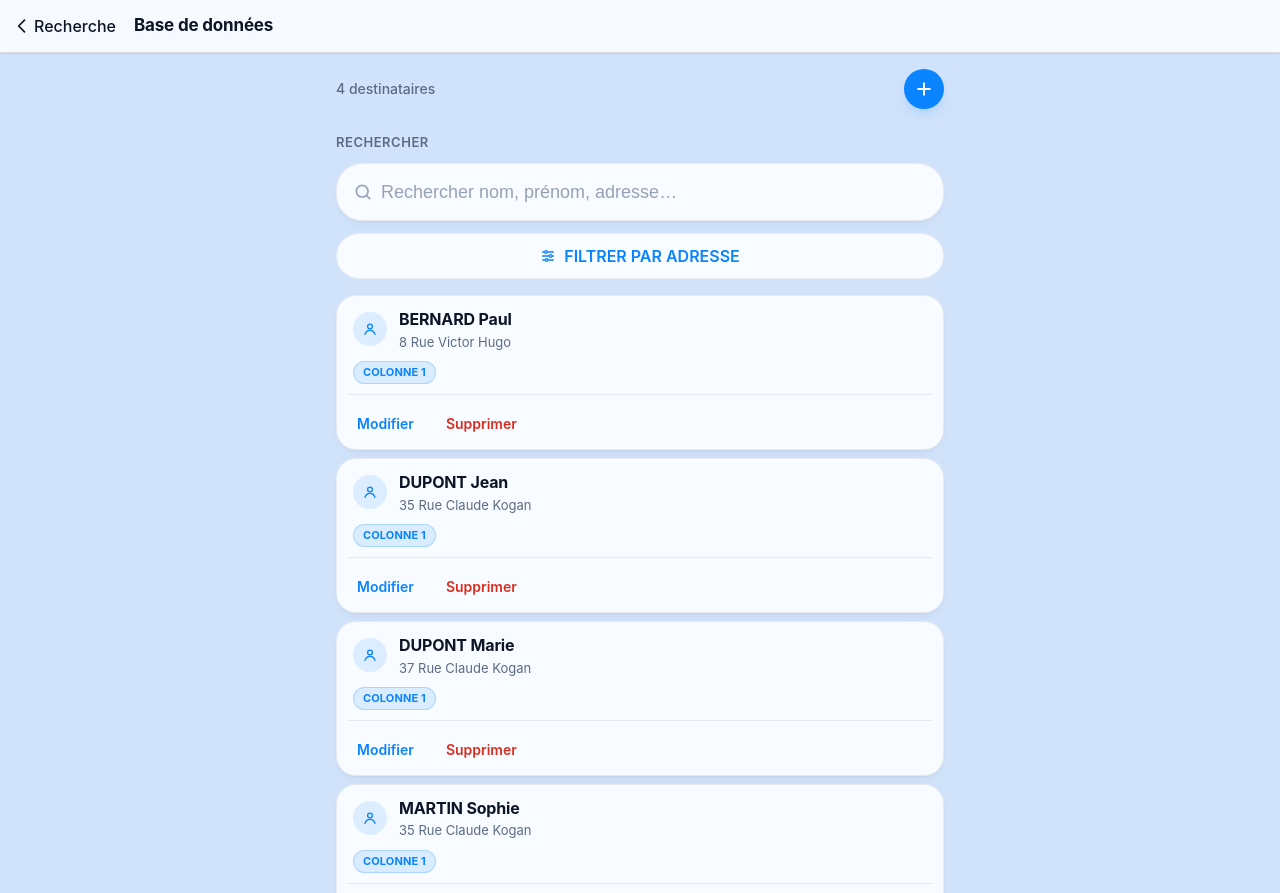
DatabasePage — filtre par adresse complète › 4. sélectionner plusieurs adresses affiche l’union (35 OU 37)
The image size is (1280, 893).
Click the button "FILTRER PAR ADRESSE". click: click(640, 256)
box: [336,233,944,279]
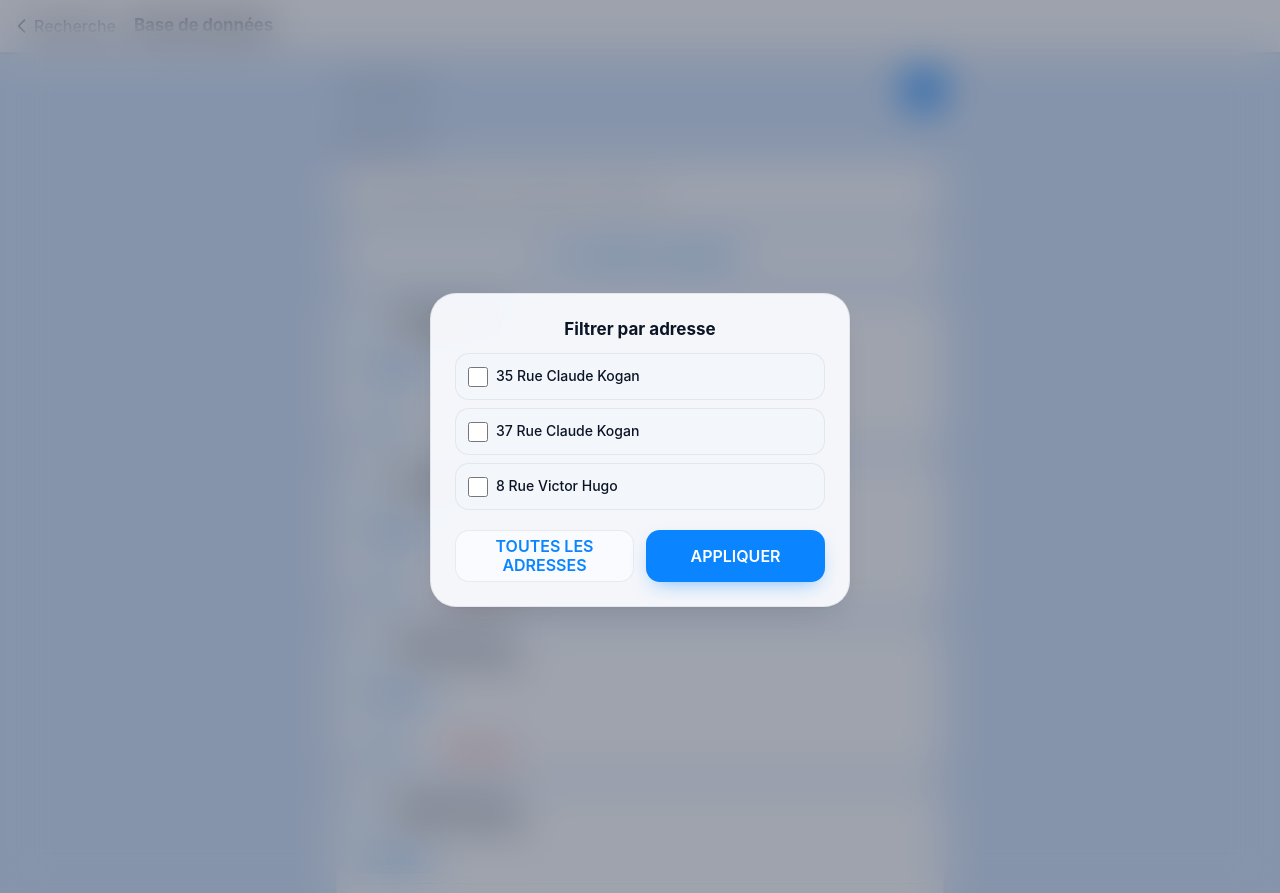
Click the checkbox labelled "35 Rue Claude Kogan". click: click(478, 377)
box: [468,367,488,387]
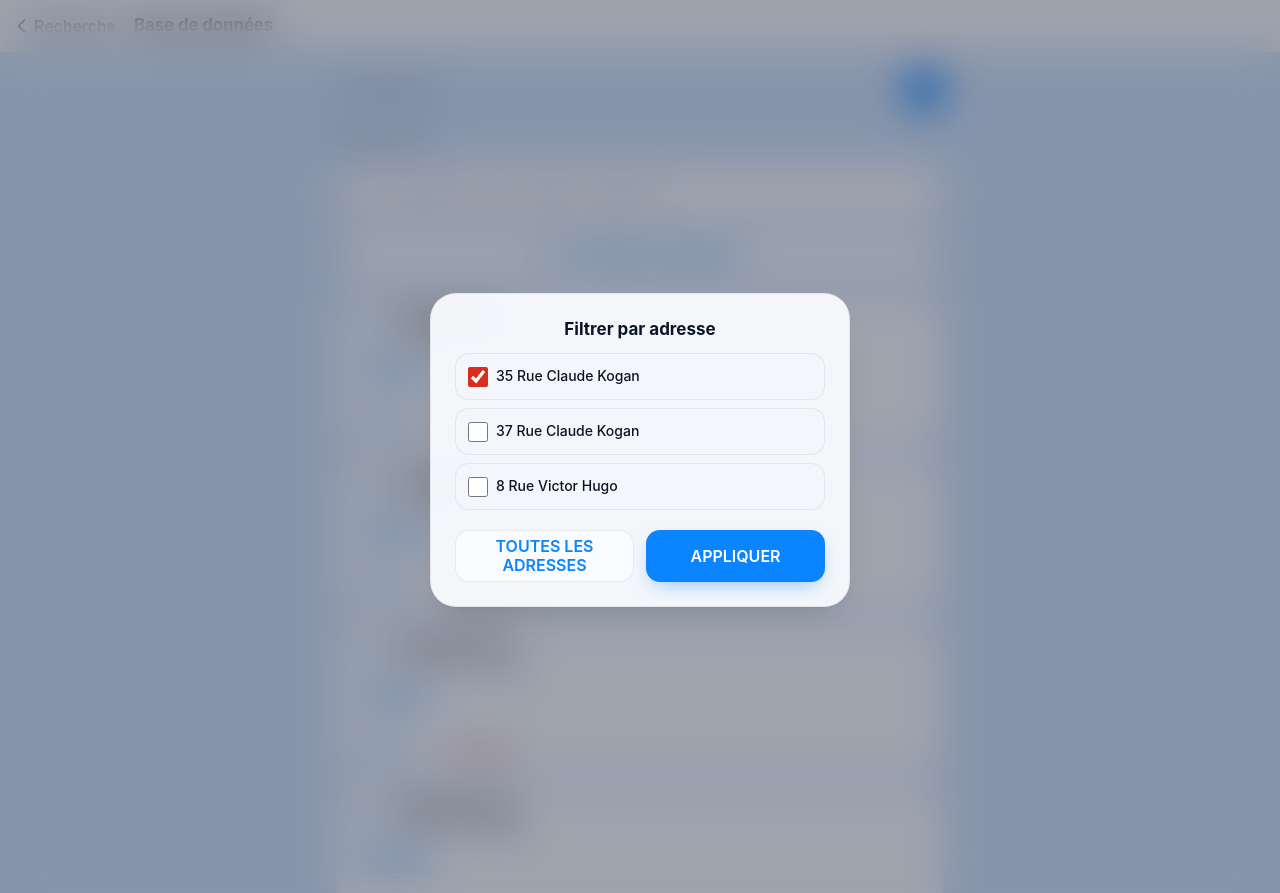
Click the checkbox labelled "37 Rue Claude Kogan". click: click(478, 432)
box: [468,422,488,442]
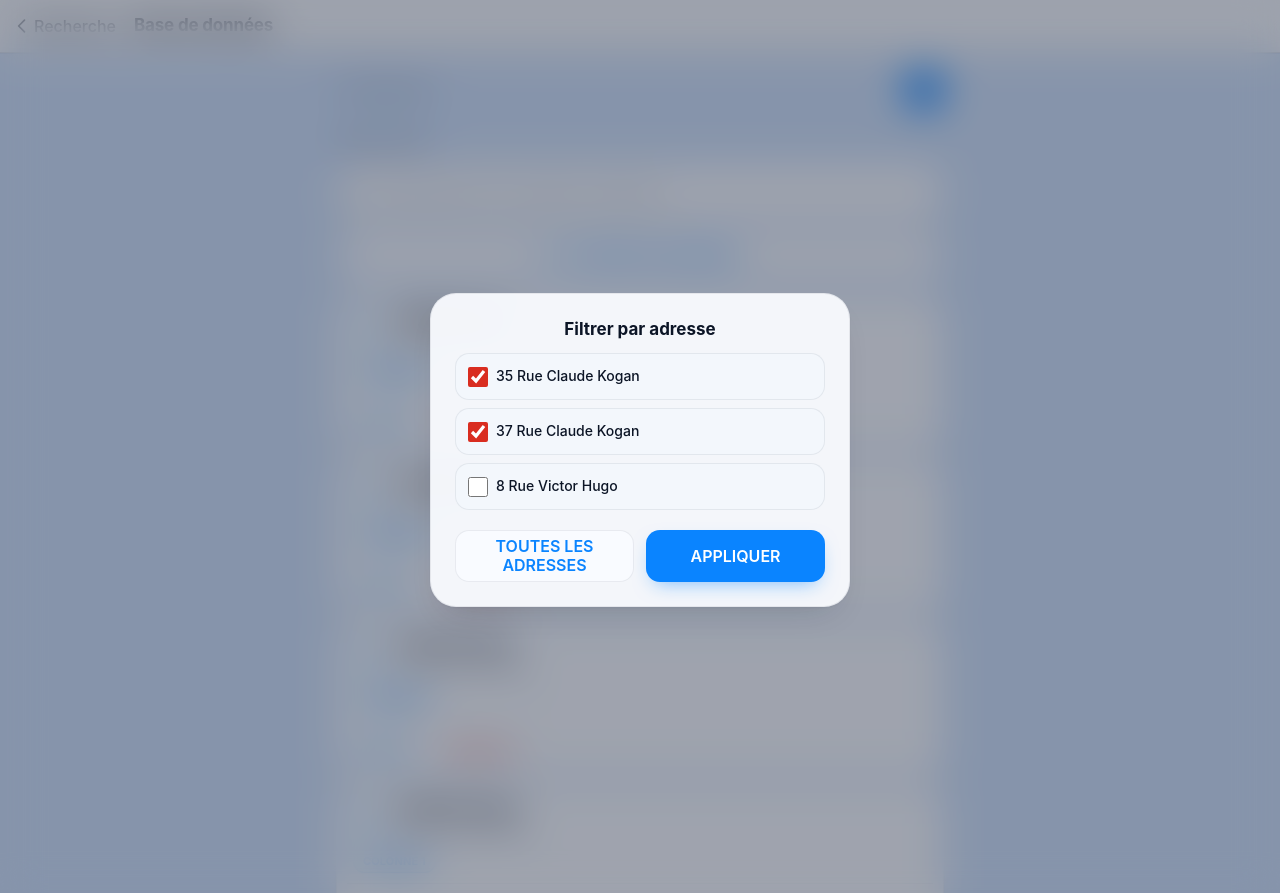
Click the button "APPLIQUER". click: click(736, 556)
box: [646,530,825,582]
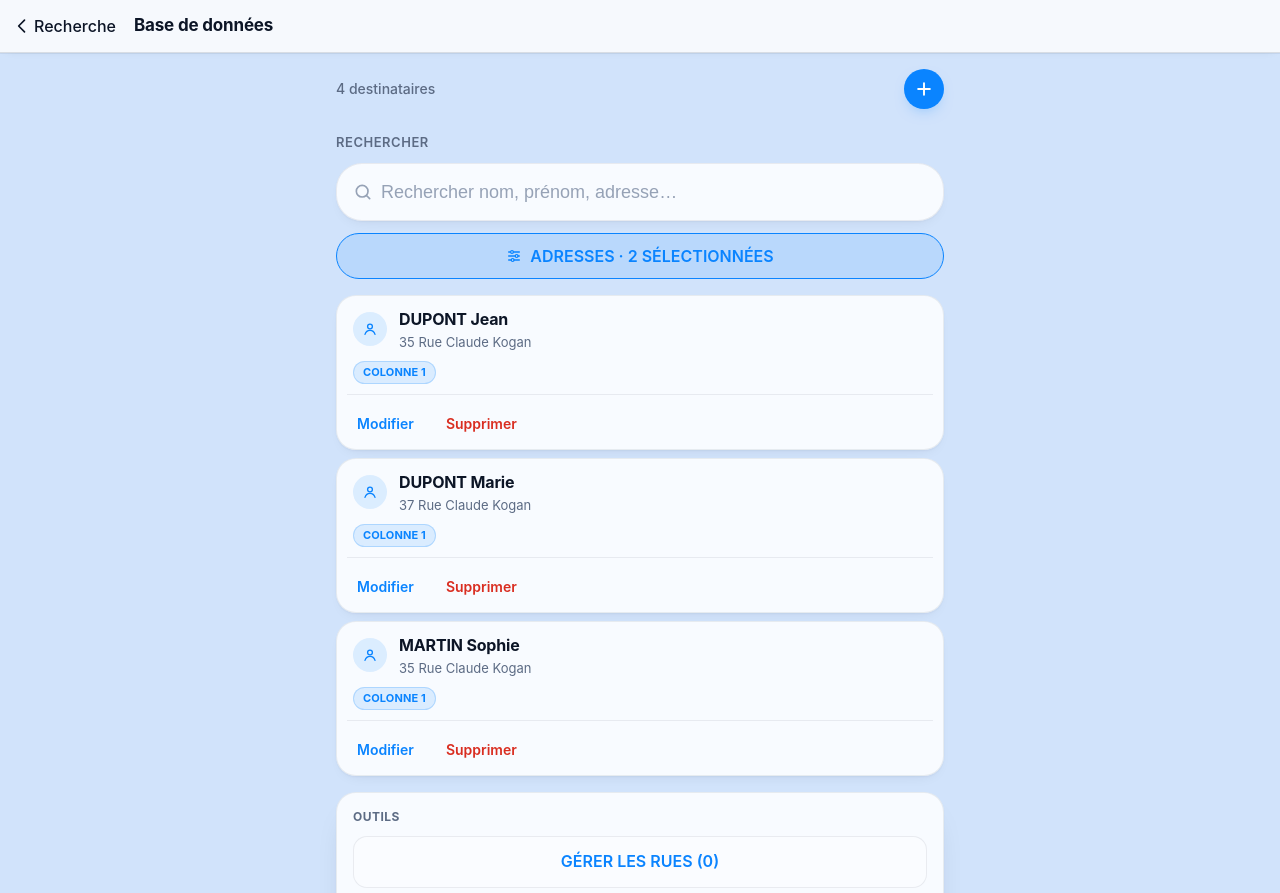
Expected: the button "ADRESSES · 2 SÉLECTIONNÉES" is shown, [336,233,944,279]
